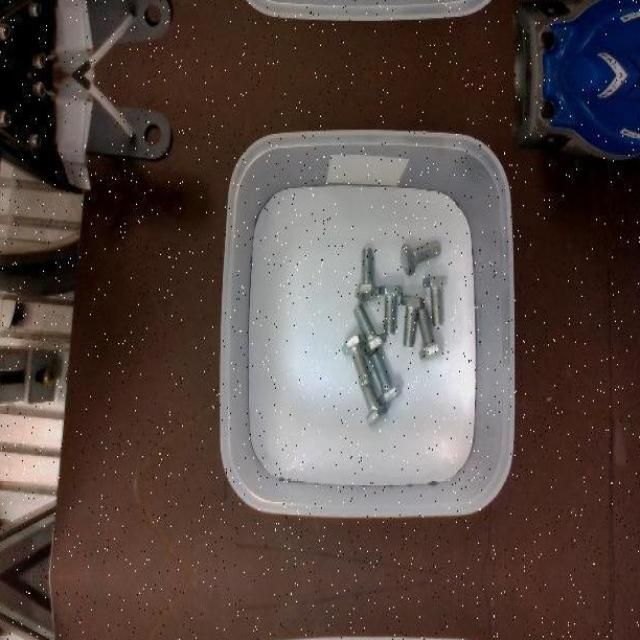screw: (352, 303, 386, 355), (370, 351, 402, 406), (342, 334, 371, 386), (399, 240, 442, 274), (354, 248, 380, 302), (418, 306, 443, 361), (422, 274, 448, 326), (400, 296, 424, 346), (378, 284, 402, 332)
